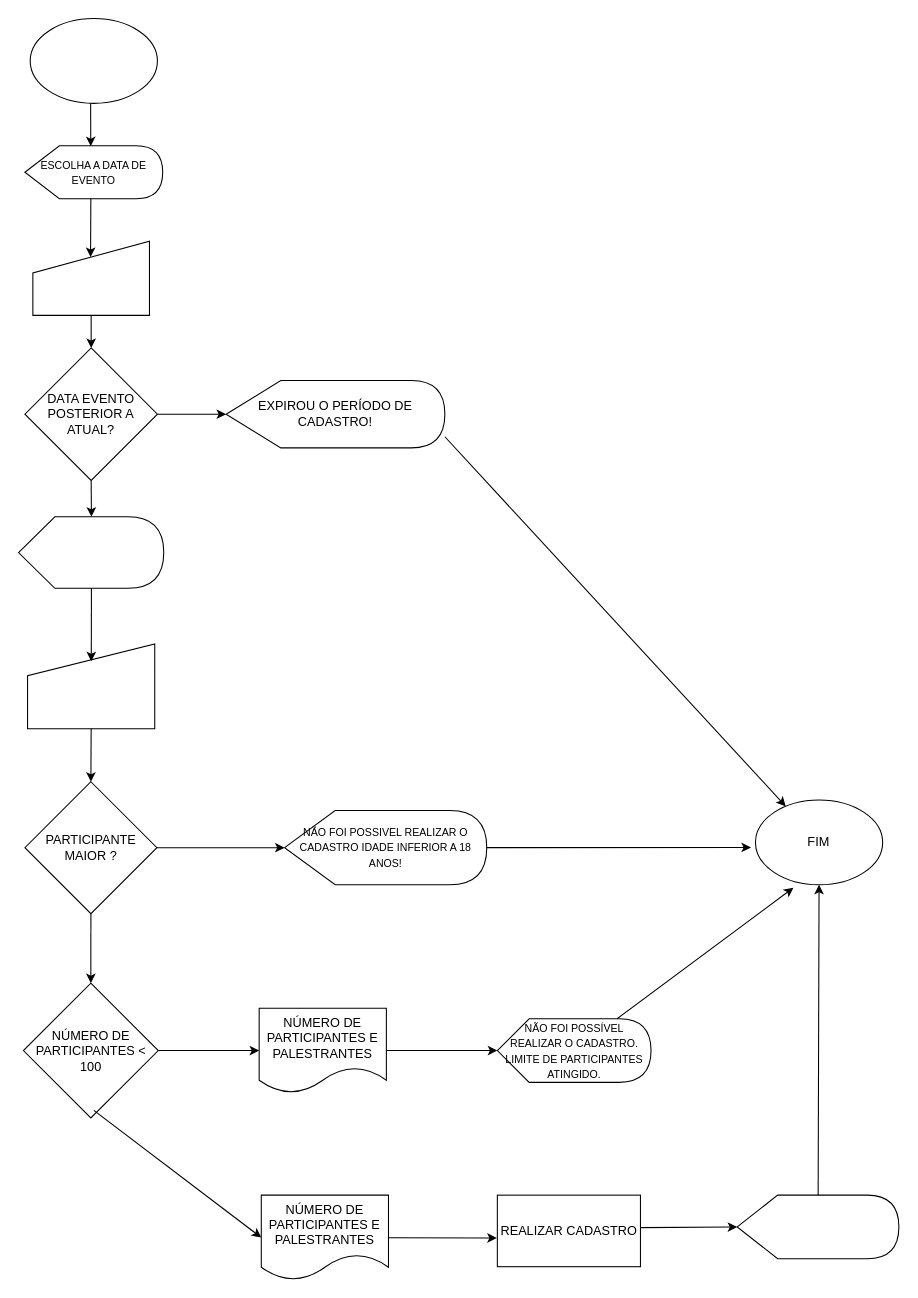
Some shapes in this 918 by 1298 pixel diagram are drawn without their labels. The shapes that lost their labels are listed below. From the top down, each one's box as (x1, y1, x2, y2) in pixels, then its label:
(29, 17, 157, 103): INÍCIO
(32, 240, 149, 315): DATA
(17, 516, 164, 588): INFORME SUA DATA DE NASCIMENTO
(26, 643, 155, 729): NASCIMENTO
(736, 1194, 899, 1259): CADASTRO REALIZADO COM SUCESSO!
